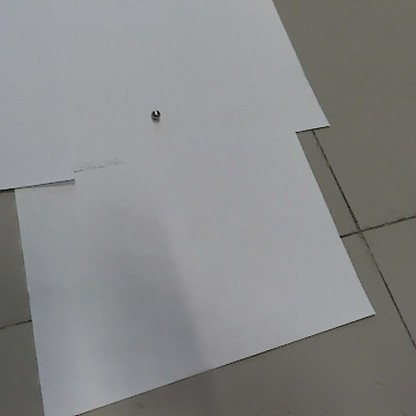ironball: (149, 106, 161, 120)
